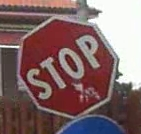stop: (14, 12, 119, 121)
